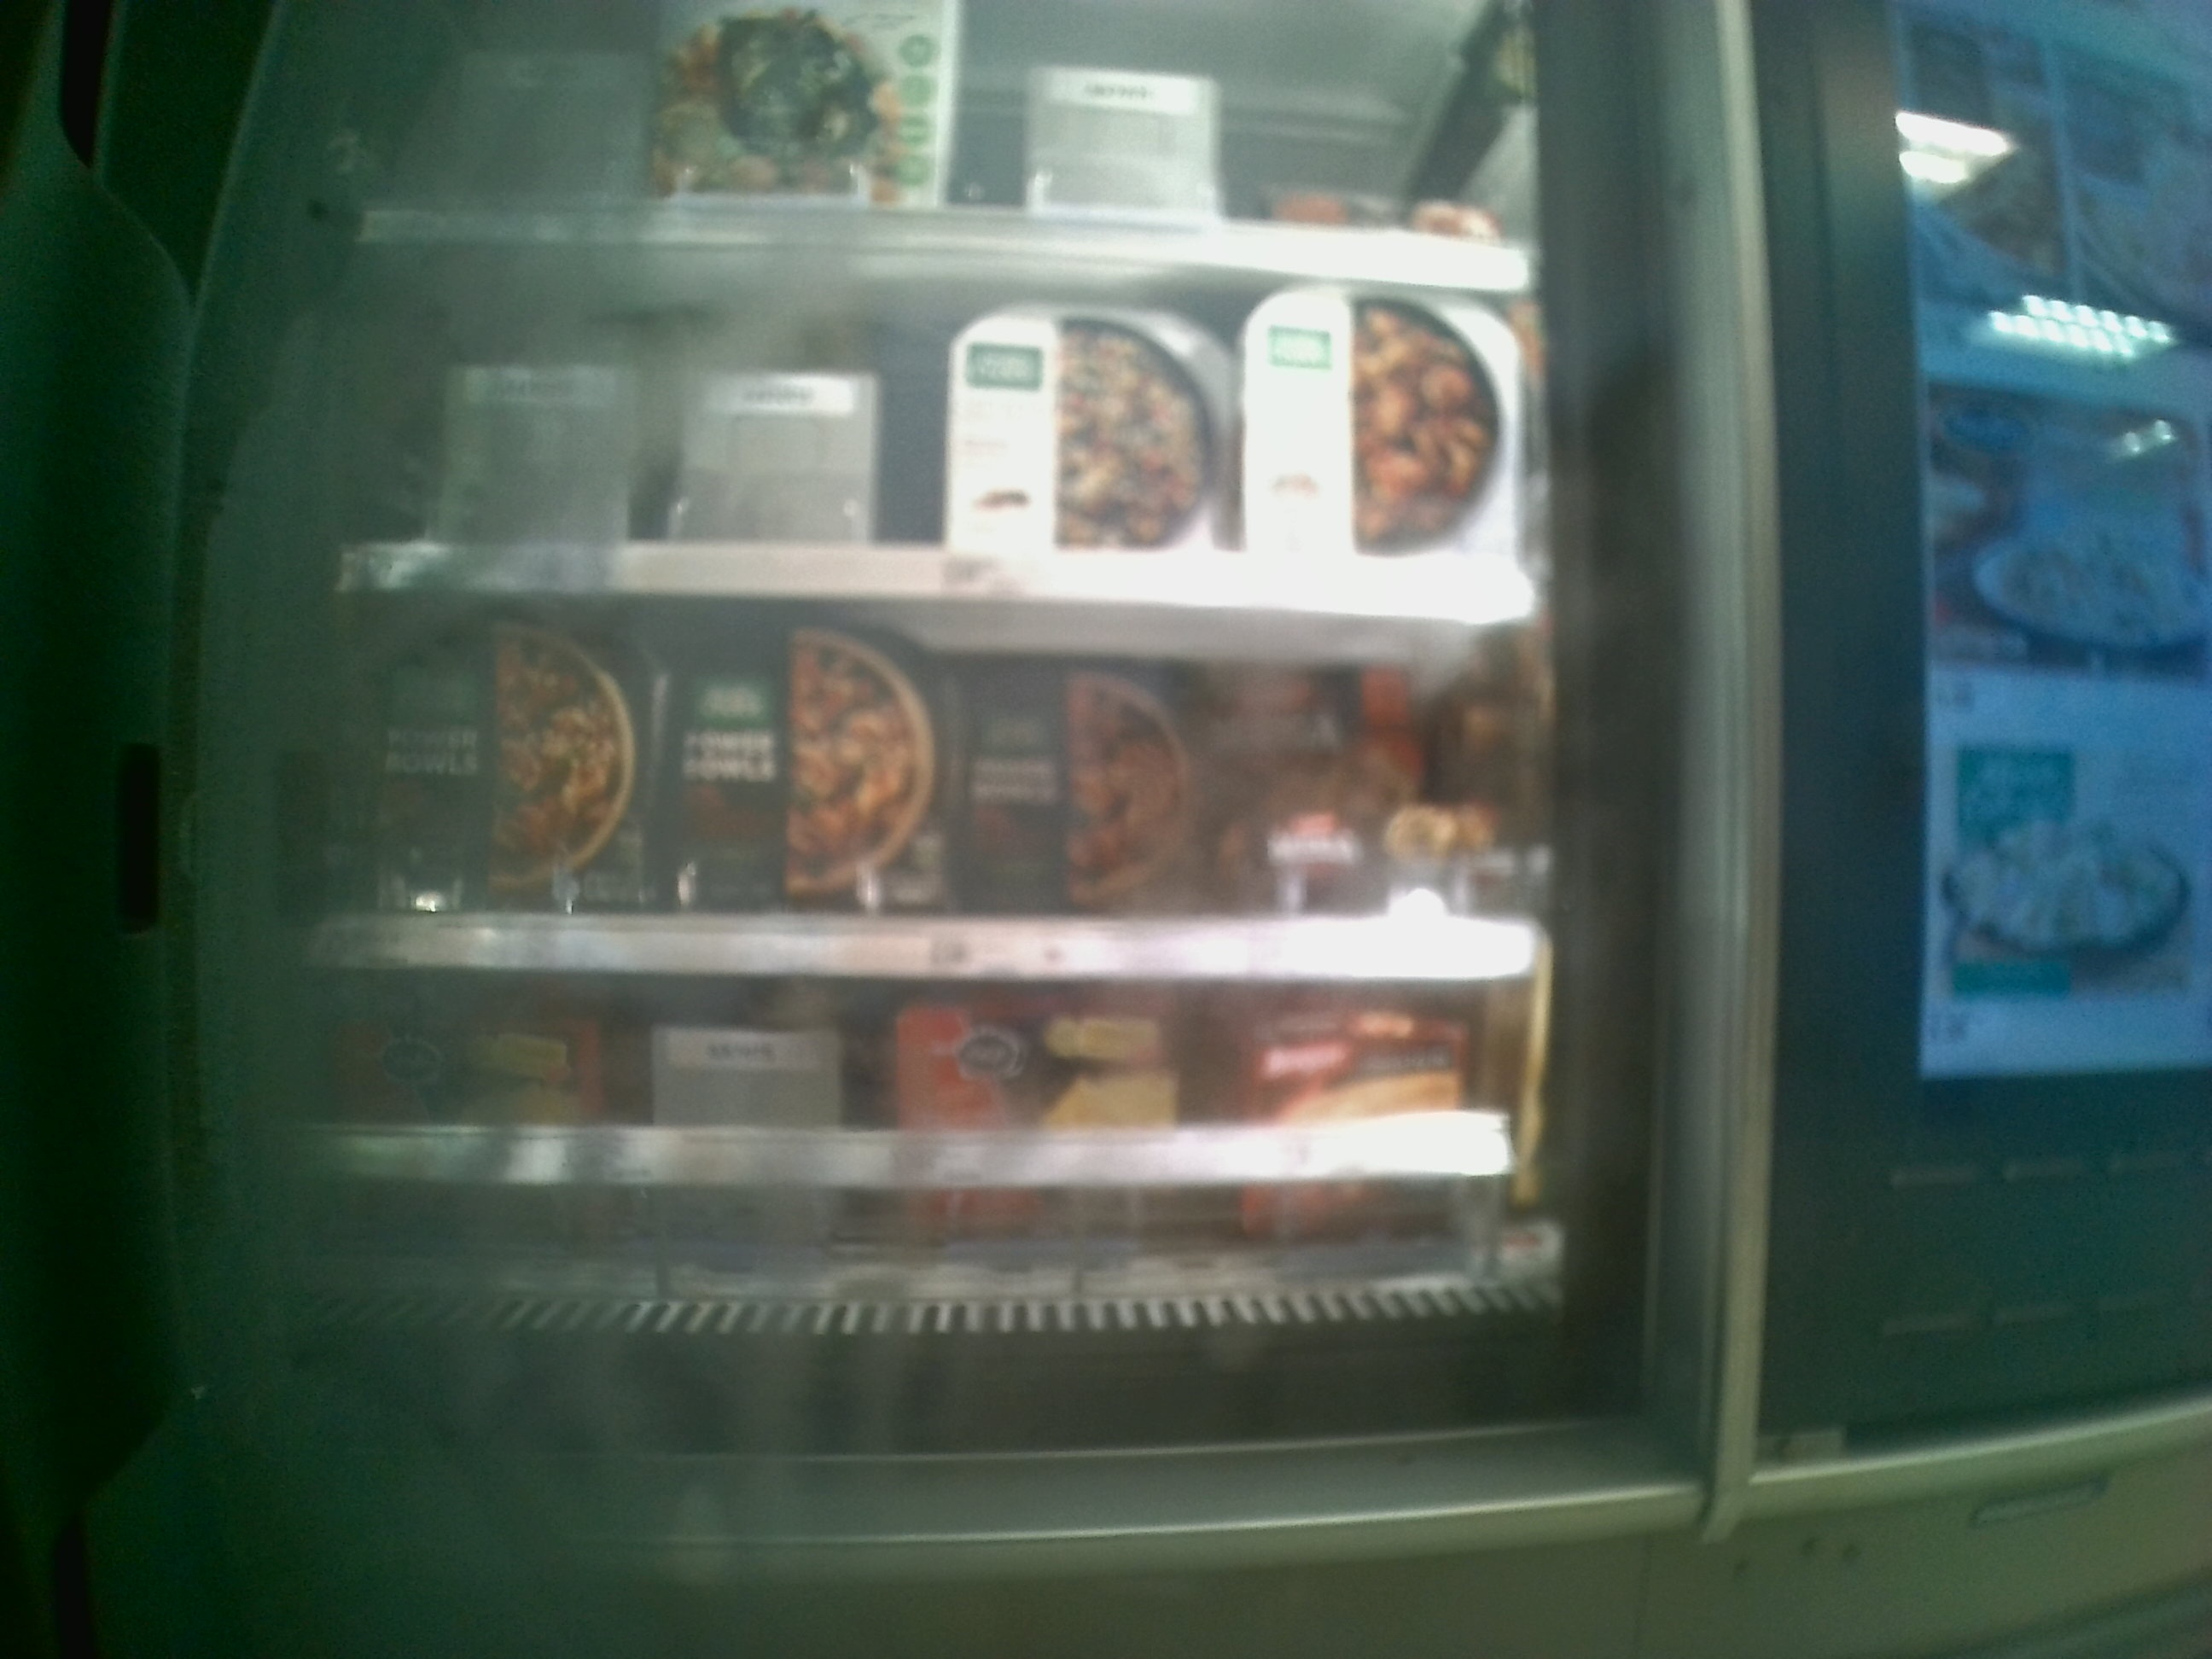shelf: (329, 587, 1569, 979), (314, 242, 1526, 619), (289, 978, 1587, 1310)
